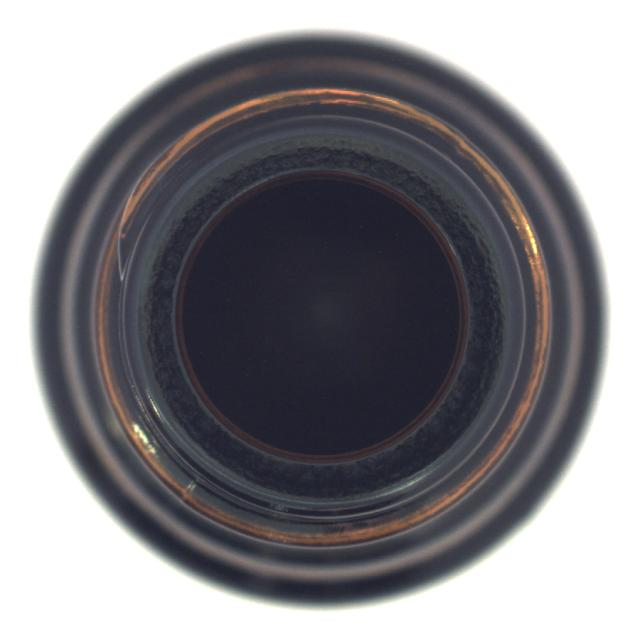bottle-good: (31, 31, 598, 606)
